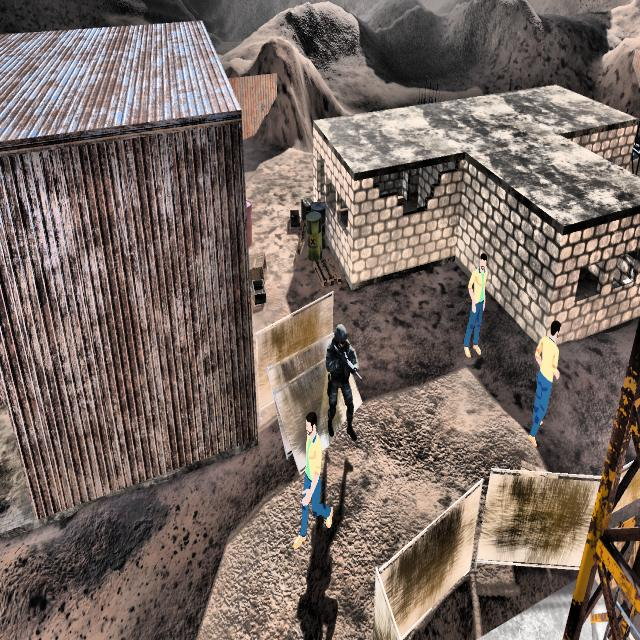bad: (320, 309, 366, 453)
good: (512, 298, 568, 462), (298, 410, 337, 554), (458, 232, 494, 366)
